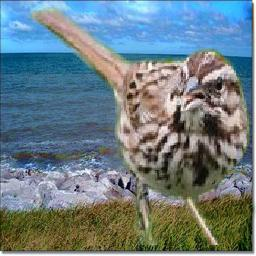Sparrow: (31, 5, 252, 245)
